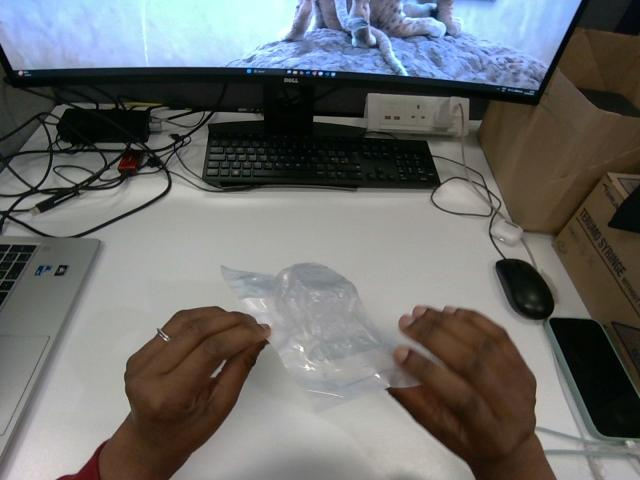gallipot: (222, 263, 417, 409)
